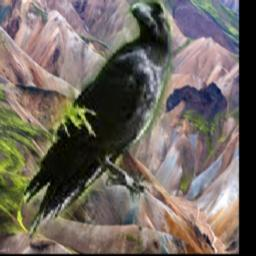Crow: (23, 0, 172, 243)
Cuckoo: (0, 26, 8, 52)
